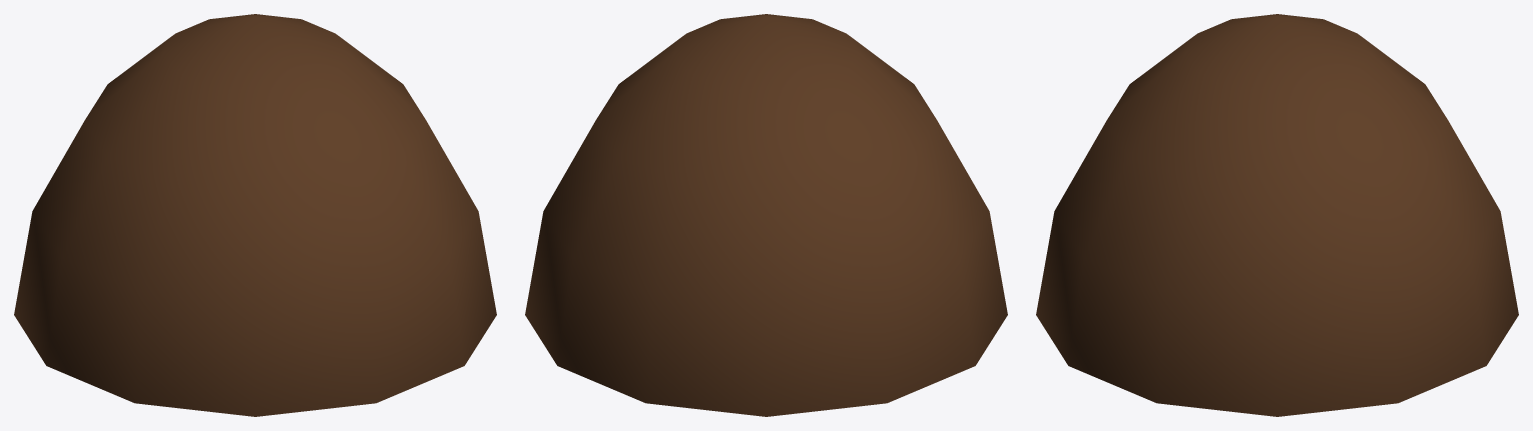
File: hair_round.glb
3 views of the same model, side by side, from view 1: azimuth 30°, elevation 25°; view 2: azimuth 150°, elevation 25°; view 3: azimuth 270°, elevation 25° (orthographic).
Parts seen in each view (by area): view 1: hair_round; view 2: hair_round; view 3: hair_round.
Part boxes in pixels (box(x1,y1,x2,y2)): hair_round: box(14, 14, 496, 416); hair_round: box(525, 14, 1007, 416); hair_round: box(1036, 14, 1518, 416).
Bounding box in the file's own units: 0.66 × 0.45 × 0.66.
